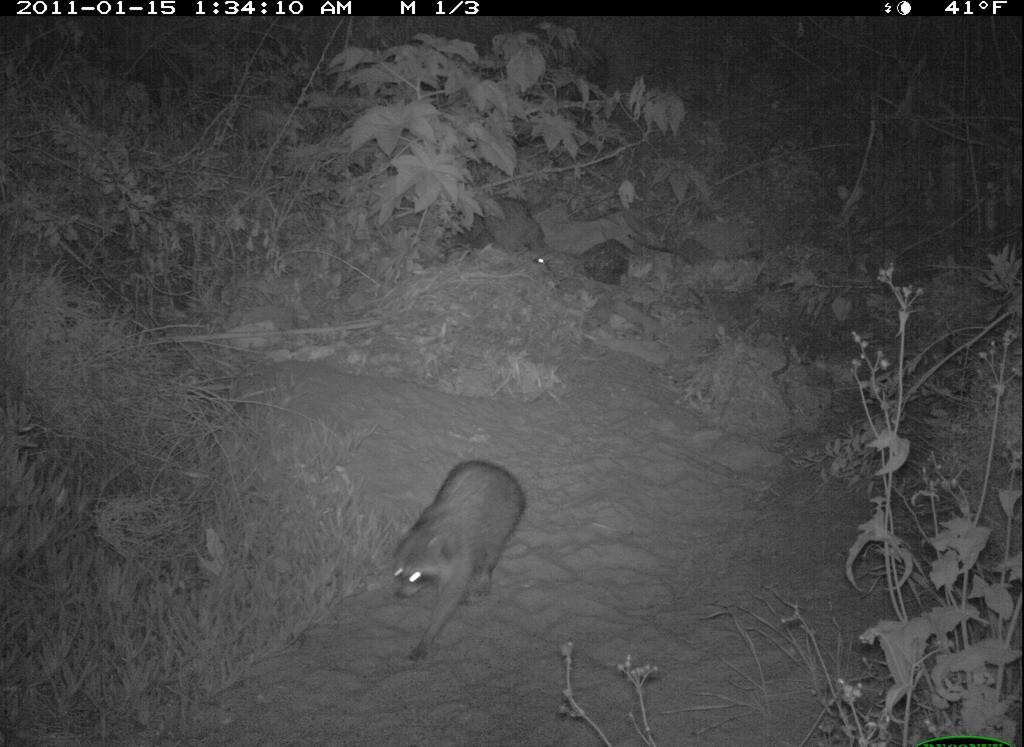raccoon: (386, 445, 547, 673), (456, 184, 574, 305)
